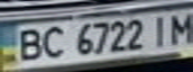2: (124, 16, 151, 52), (109, 17, 130, 53)
6: (69, 20, 97, 56)
7: (90, 19, 112, 55)
B: (9, 26, 45, 63)
C: (36, 24, 69, 60)
I: (148, 12, 175, 47)
M: (166, 9, 193, 45)
